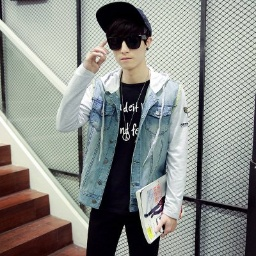face: (99, 16, 156, 72)
